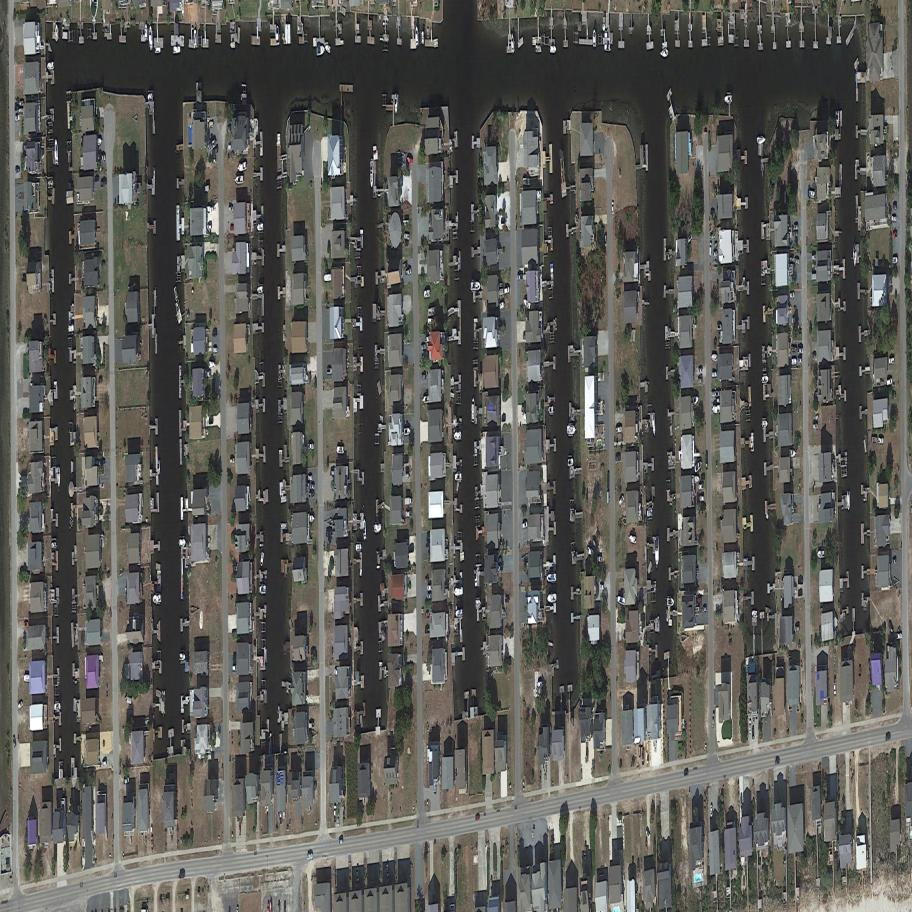ship: (174, 298, 183, 326), (691, 459, 706, 475), (520, 295, 534, 312), (204, 137, 219, 152), (613, 595, 628, 608), (626, 533, 640, 545), (655, 535, 660, 567), (369, 158, 374, 189), (54, 137, 59, 166), (322, 42, 334, 54), (236, 162, 248, 173), (545, 593, 557, 603), (315, 44, 325, 56), (470, 282, 482, 292), (471, 396, 475, 425), (453, 588, 464, 598), (149, 25, 153, 51), (566, 426, 577, 435), (258, 585, 267, 596), (57, 465, 61, 489), (652, 412, 656, 435), (363, 518, 367, 541), (547, 573, 556, 583), (259, 550, 264, 568), (415, 24, 419, 46), (394, 93, 398, 115), (762, 374, 769, 386), (757, 135, 766, 144), (592, 28, 596, 48), (521, 178, 531, 186), (788, 449, 796, 459), (712, 404, 720, 414), (659, 50, 669, 58), (276, 24, 280, 44), (277, 705, 281, 725), (373, 524, 381, 534), (152, 595, 162, 603), (710, 354, 718, 363), (853, 244, 856, 268), (172, 46, 181, 54), (174, 285, 178, 303), (178, 538, 186, 547), (455, 472, 462, 482), (567, 457, 574, 467), (475, 600, 482, 610), (234, 177, 244, 184), (762, 418, 768, 429), (455, 610, 463, 618), (454, 432, 462, 440), (724, 95, 732, 103), (336, 446, 344, 454), (474, 567, 477, 588), (667, 597, 674, 606), (535, 44, 542, 53), (422, 395, 429, 404), (404, 428, 411, 437), (194, 28, 197, 49), (179, 652, 186, 661), (511, 34, 514, 54), (818, 549, 824, 559), (847, 490, 850, 510), (550, 46, 557, 54), (423, 290, 430, 298), (548, 407, 555, 415), (46, 63, 54, 70), (54, 703, 61, 711), (657, 616, 660, 634), (147, 93, 153, 102), (55, 25, 58, 42), (752, 610, 758, 618), (230, 40, 236, 48), (604, 43, 610, 51), (791, 357, 797, 365), (836, 111, 839, 127), (257, 286, 263, 294), (256, 225, 264, 231), (209, 362, 215, 370), (51, 541, 57, 549), (694, 475, 699, 484), (309, 514, 314, 523), (892, 257, 898, 264), (355, 544, 361, 551), (145, 23, 147, 44), (428, 317, 433, 324), (422, 30, 424, 45)
small-vehicle: (519, 520, 530, 532), (617, 494, 626, 507), (643, 829, 653, 840), (887, 620, 894, 635), (16, 700, 25, 710), (332, 668, 341, 677), (686, 233, 694, 243), (405, 496, 413, 506), (833, 677, 837, 696), (405, 266, 412, 276), (12, 736, 17, 750), (307, 852, 314, 862), (228, 457, 236, 465), (886, 377, 893, 386), (100, 177, 107, 186), (99, 153, 106, 161), (406, 510, 413, 518), (407, 157, 415, 164), (308, 720, 314, 729), (642, 749, 645, 766), (712, 712, 715, 729), (705, 453, 708, 470), (334, 805, 337, 822), (752, 726, 755, 742), (889, 356, 895, 364), (789, 291, 795, 299), (100, 260, 106, 268), (326, 367, 332, 375), (212, 345, 218, 353), (356, 866, 359, 882), (710, 232, 715, 241), (749, 720, 752, 735), (709, 242, 712, 257), (615, 454, 621, 461), (616, 426, 622, 433), (504, 287, 510, 294), (878, 437, 884, 444), (896, 633, 902, 640), (710, 803, 713, 817), (23, 622, 29, 629), (711, 391, 717, 398), (797, 346, 803, 353), (404, 233, 410, 240), (386, 863, 389, 877), (94, 174, 99, 182), (891, 215, 896, 223), (703, 605, 707, 614), (792, 317, 798, 323), (811, 255, 817, 261), (14, 115, 20, 121), (308, 443, 314, 449), (700, 494, 705, 501), (421, 343, 426, 350), (886, 735, 891, 742), (98, 378, 103, 385), (798, 579, 803, 586), (798, 590, 803, 597), (712, 371, 717, 378), (15, 168, 20, 175), (338, 838, 343, 845), (102, 761, 107, 768), (239, 821, 241, 837), (337, 811, 339, 827), (812, 353, 817, 359), (427, 585, 432, 591), (427, 593, 432, 599), (699, 483, 704, 489), (517, 275, 523, 280), (421, 374, 426, 380), (892, 203, 897, 209), (813, 424, 819, 429), (698, 367, 703, 373), (798, 357, 803, 363), (794, 258, 799, 264), (794, 224, 799, 230), (713, 251, 718, 257), (207, 224, 213, 229), (232, 665, 237, 671), (228, 206, 233, 212), (612, 201, 614, 215), (892, 558, 896, 565), (701, 474, 705, 481), (605, 234, 607, 247), (600, 585, 604, 591), (795, 626, 799, 632), (405, 241, 409, 247), (698, 378, 702, 384), (308, 475, 312, 480), (310, 484, 314, 489)
